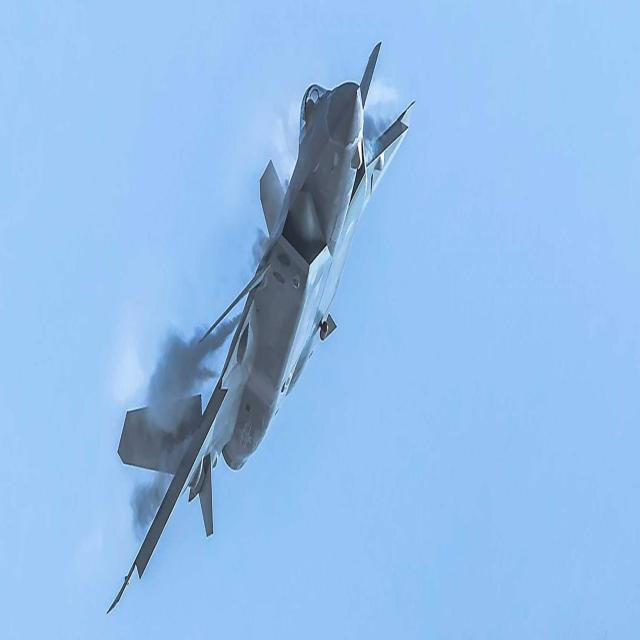MIL_Plane: (106, 41, 416, 614)
